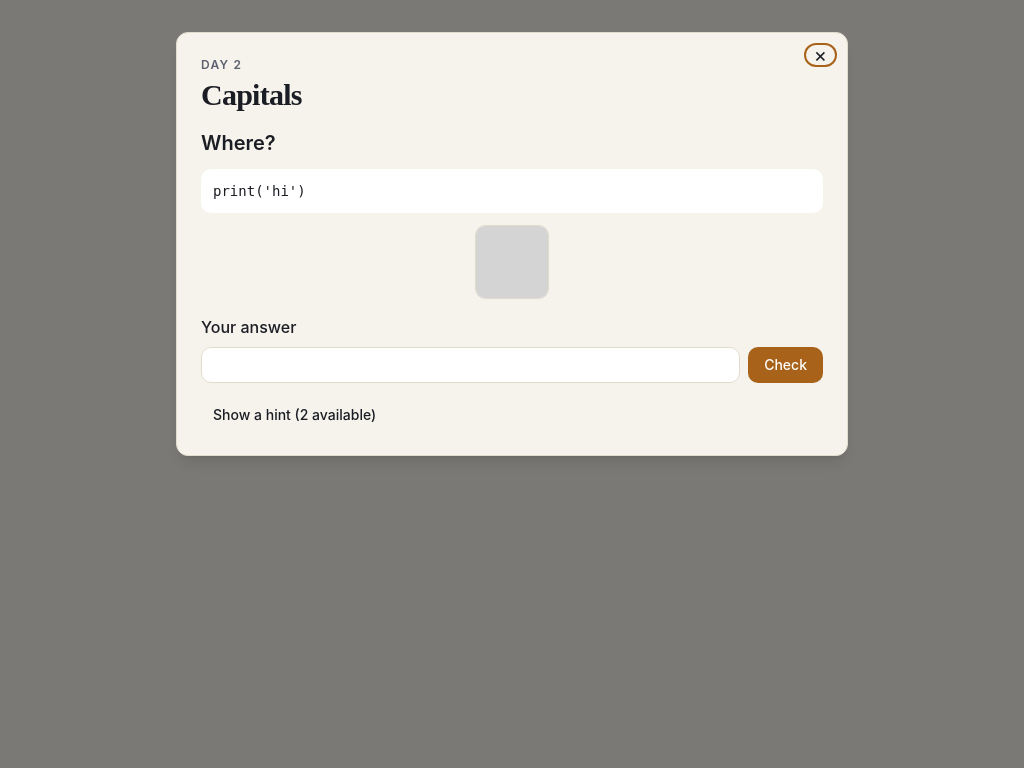
Test: door panel › reveals due hints one at a time
Click the button "Show a hint (2 available)" at {"x": 295, "y": 415}, box [201,399,388,431]
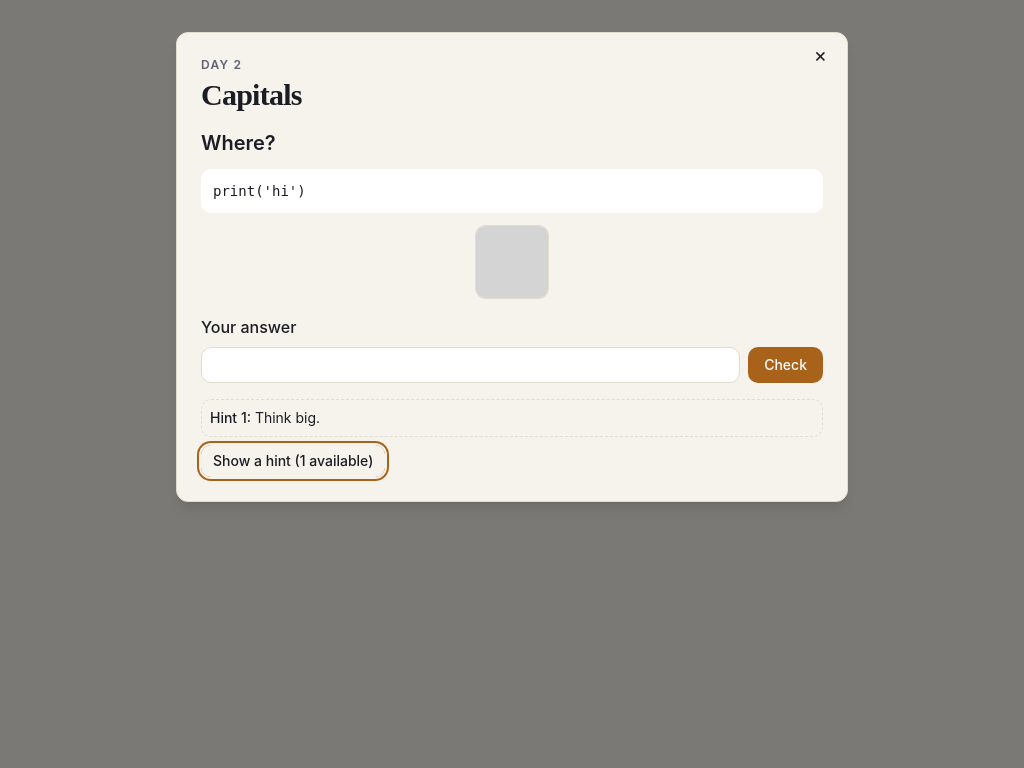
Check: the text "Capital city." is not shown
Check: the text "Think big." is shown, box [255,409,320,426]
Click the button "Show a hint (1 available)" at {"x": 293, "y": 461}, box [201,445,385,477]
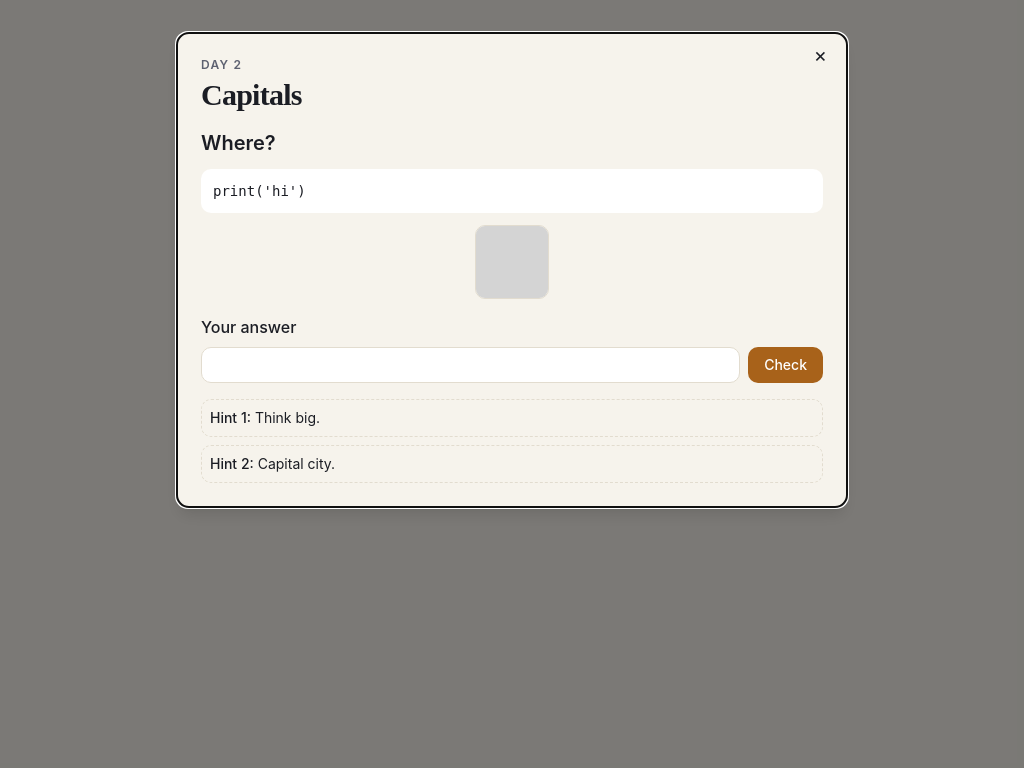
Check: the text "Capital city." is shown, box [258,455,335,472]
Check: the button "Show a hint" is gone
